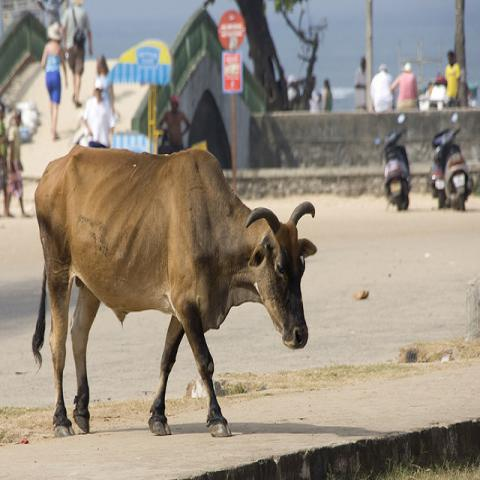motorcycle: (370, 116, 412, 209), (432, 116, 473, 208)
